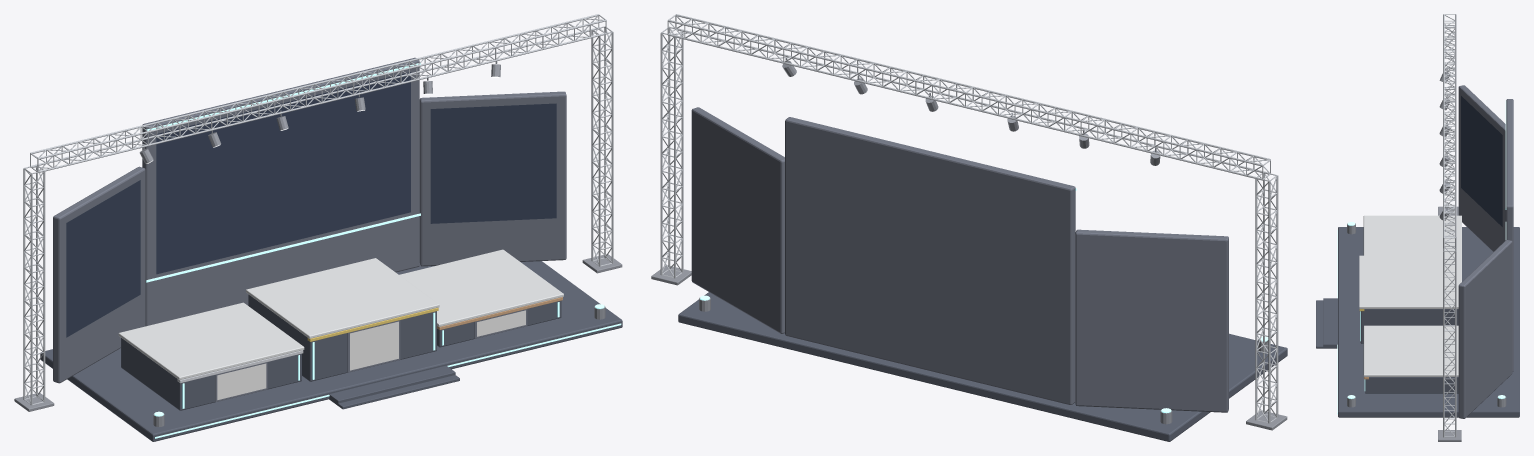
The model's file is podium.glb.
3 views of the same model, side by side, from view 1: azimuth 30°, elevation 25°; view 2: azimuth 150°, elevation 25°; view 3: azimuth 270°, elevation 25° (orthographic). The views are drawn at different scales.
Visible parts, largest first — view 1: screen_center, backdrop, tops, stage, truss, screen_right, tiers, screen_left, led, metal, numeral_1, numeral_2 (+1 smaller); view 2: backdrop, truss, stage, metal; view 3: tops, backdrop, stage, truss, screen_left, tiers, metal, led.
Part boxes in pixels (x1,y1,x2,y2): screen_center: (156, 72, 410, 274); backdrop: (53, 57, 566, 383); tops: (118, 249, 563, 380); stage: (40, 261, 622, 441); truss: (23, 14, 613, 405); screen_right: (430, 103, 556, 223); tiers: (121, 294, 561, 410); screen_left: (66, 180, 140, 337); led: (146, 63, 621, 438); metal: (14, 58, 622, 426); numeral_1: (350, 321, 398, 370); numeral_2: (217, 363, 266, 399); backdrop: (691, 107, 1228, 412); truss: (660, 14, 1278, 423); stage: (678, 292, 1287, 441); metal: (651, 57, 1287, 430); tops: (1359, 215, 1461, 376); backdrop: (1458, 85, 1513, 418); stage: (1316, 227, 1519, 417); truss: (1443, 14, 1456, 437); screen_left: (1461, 96, 1502, 226); tiers: (1360, 309, 1458, 393); metal: (1347, 67, 1506, 441); led: (1337, 101, 1506, 414).
Bounding box in the file's own units: 60.6 × 24.24 × 22.4.
